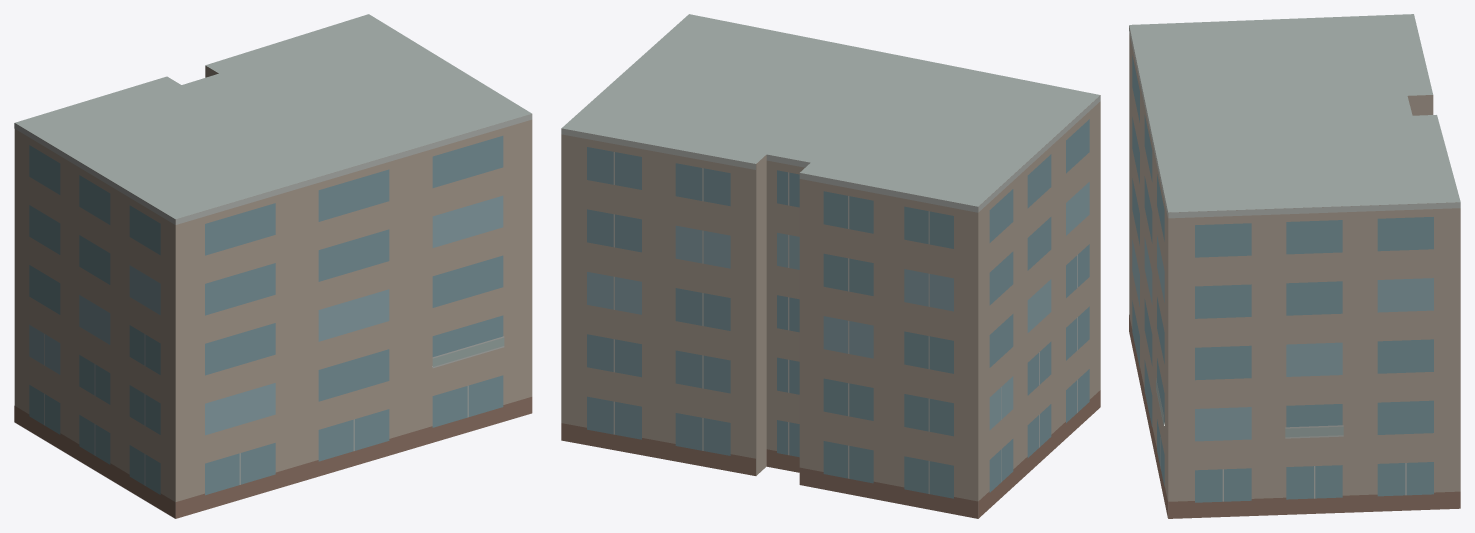
File: survey-upis-32745892.glb
The picture shows the model from 3 angles, left to right: view 1: azimuth 30°, elevation 25°; view 2: azimuth 150°, elevation 25°; view 3: azimuth 270°, elevation 25°; orthographic projection. The views are drawn at different scales.
Parts seen in each view (by area): view 1: survey-upis-32745892.tmp; view 2: survey-upis-32745892.tmp; view 3: survey-upis-32745892.tmp.
Boxes of the visible parts, x1=… form: survey-upis-32745892.tmp: x1=14, y1=14, x2=532, y2=518; survey-upis-32745892.tmp: x1=561, y1=14, x2=1100, y2=518; survey-upis-32745892.tmp: x1=1129, y1=14, x2=1460, y2=518.
Bounding box in the file's own units: 17.58 × 12.65 × 12.42.
